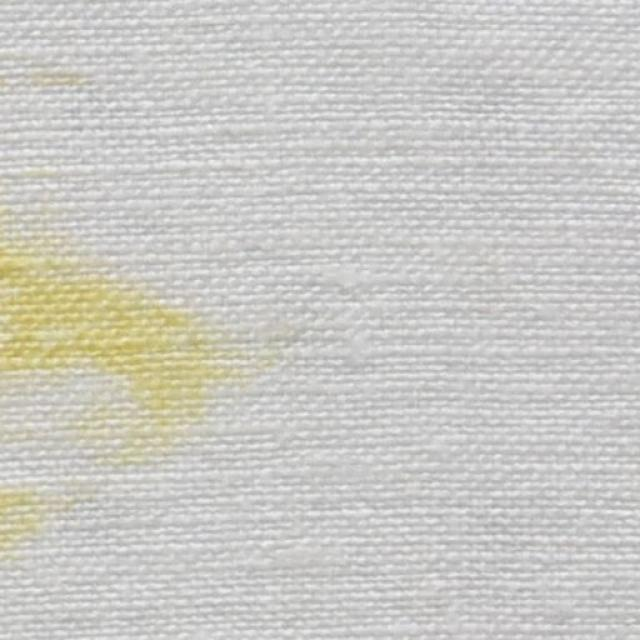Stain: (0, 211, 242, 449), (0, 492, 51, 556)
